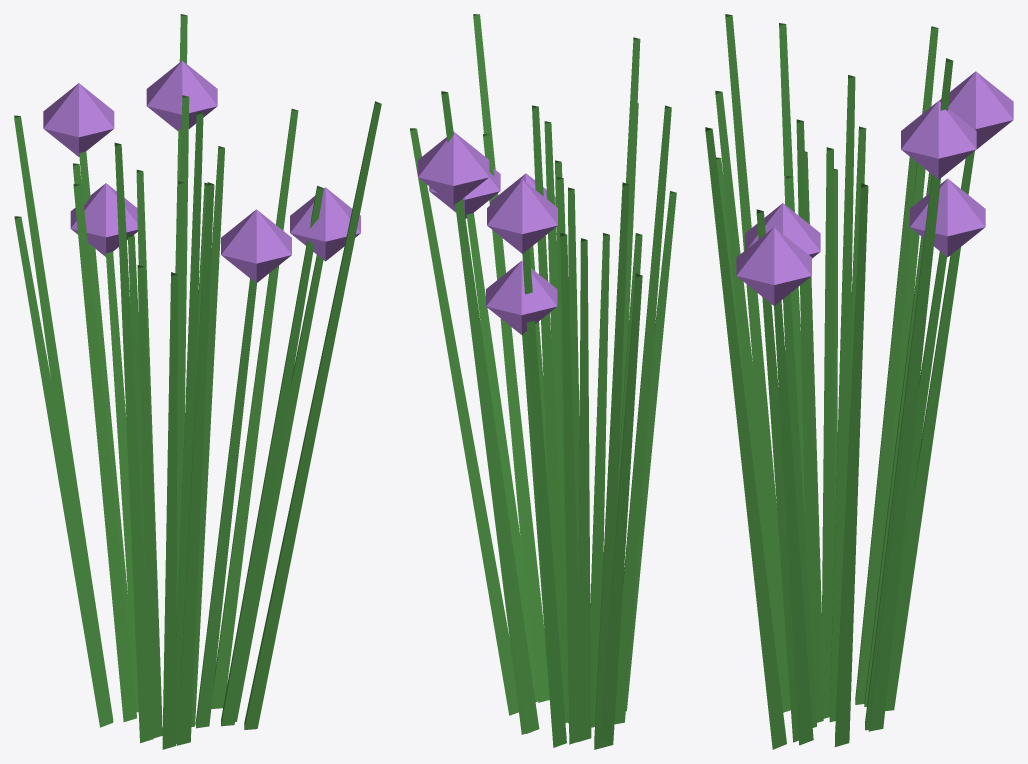
File: chives.glb
The picture shows the model from 3 angles, left to right: view 1: azimuth 30°, elevation 25°; view 2: azimuth 150°, elevation 25°; view 3: azimuth 270°, elevation 25°; orthographic projection. The views are drawn at different scales.
Visible parts, largest first — view 1: chives; view 2: chives; view 3: chives.
Part boxes in pixels (x1=…): chives: x1=14, y1=14, x2=381, y2=749; chives: x1=410, y1=14, x2=676, y2=749; chives: x1=705, y1=14, x2=1013, y2=749.
Bounding box in the file's own units: 0.1417 × 0.3159 × 0.1272.
